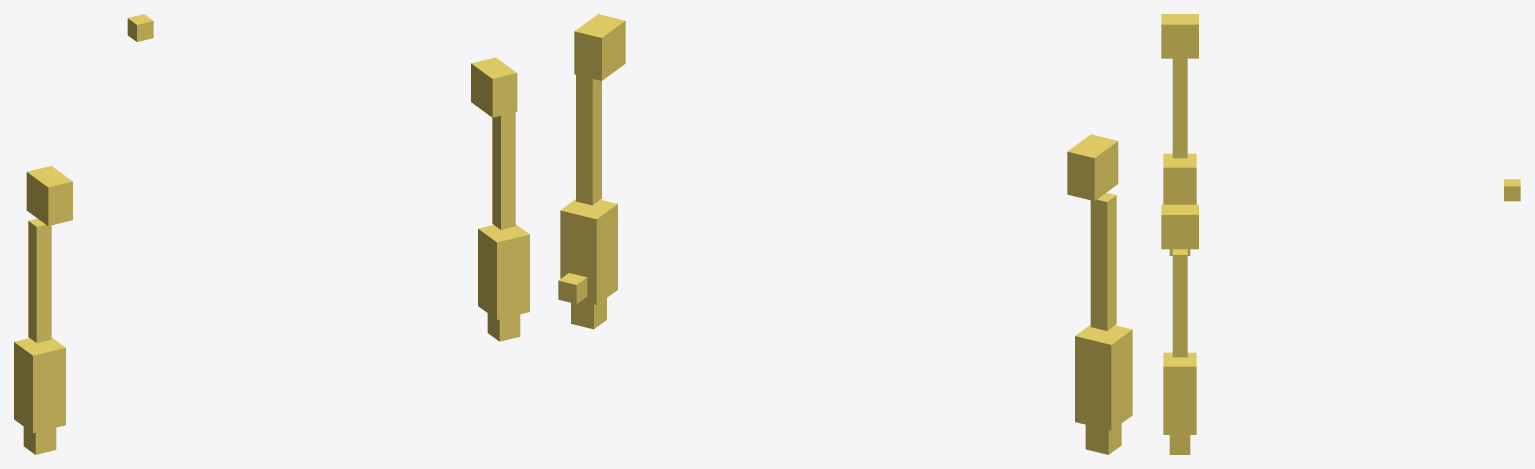
File: brincos_longos_piercing.glb
3 renders of one model, left to right at view 1: azimuth 30°, elevation 25°; view 2: azimuth 150°, elevation 25°; view 3: azimuth 270°, elevation 25°, orthographic. The views are drawn at different scales.
Parts seen in each view (by area): view 1: brincos_longos_piercing; view 2: brincos_longos_piercing; view 3: brincos_longos_piercing.
Part boxes in pixels (x1=…): brincos_longos_piercing: x1=14, y1=14, x2=529, y2=454; brincos_longos_piercing: x1=558, y1=14, x2=1132, y2=454; brincos_longos_piercing: x1=1161, y1=14, x2=1520, y2=454.
Size of the model in its own units: 0.604 by 0.3125 by 0.4305.
